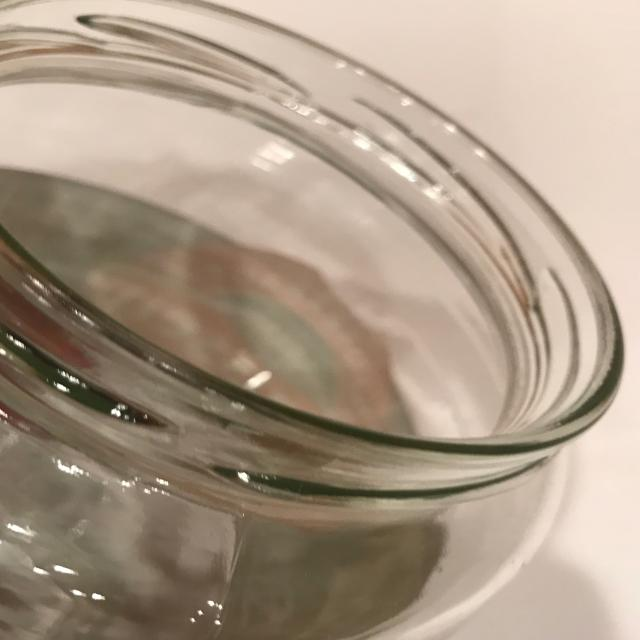glass: (1, 0, 626, 639)
